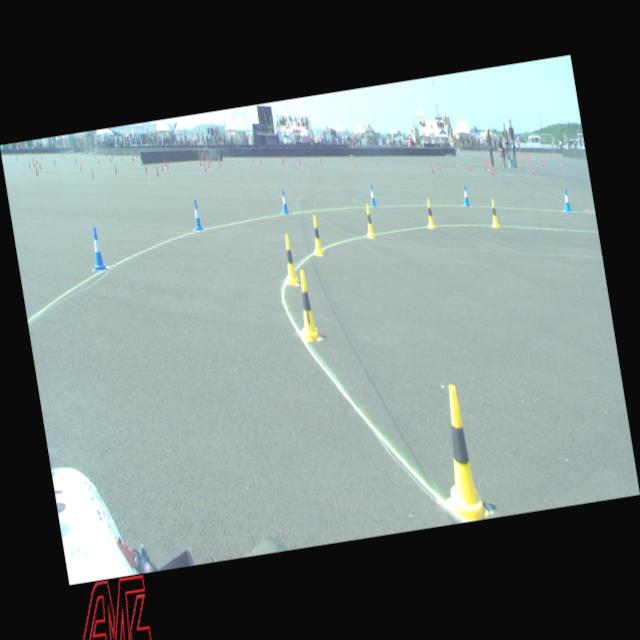blue_cone: (89, 226, 106, 271), (191, 199, 203, 231), (562, 188, 572, 212), (280, 188, 289, 214), (462, 184, 470, 207), (368, 184, 376, 206)
unknown_cone: (155, 166, 159, 177), (90, 168, 94, 178), (144, 163, 147, 173), (36, 167, 38, 176), (204, 163, 206, 172)
yellow_cone: (429, 382, 490, 524), (292, 268, 322, 344), (280, 234, 300, 286), (308, 215, 324, 256), (362, 204, 376, 238), (424, 198, 436, 229), (488, 198, 499, 228)
